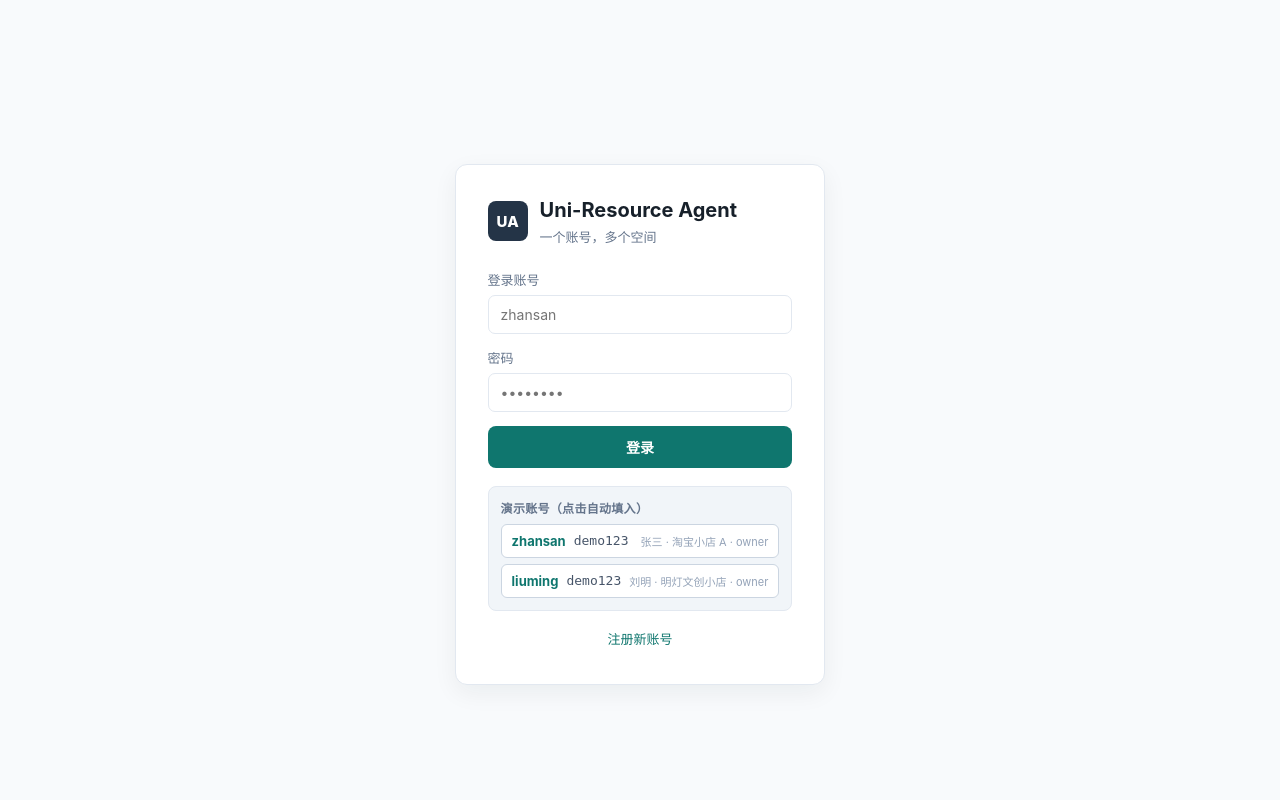
Test: organization switching › switches organization by posting only ouid and clamps illegal views
In the field with test id "login": [640, 314] box top-left (488, 294), bottom-right (792, 334), type "shopkeeper"
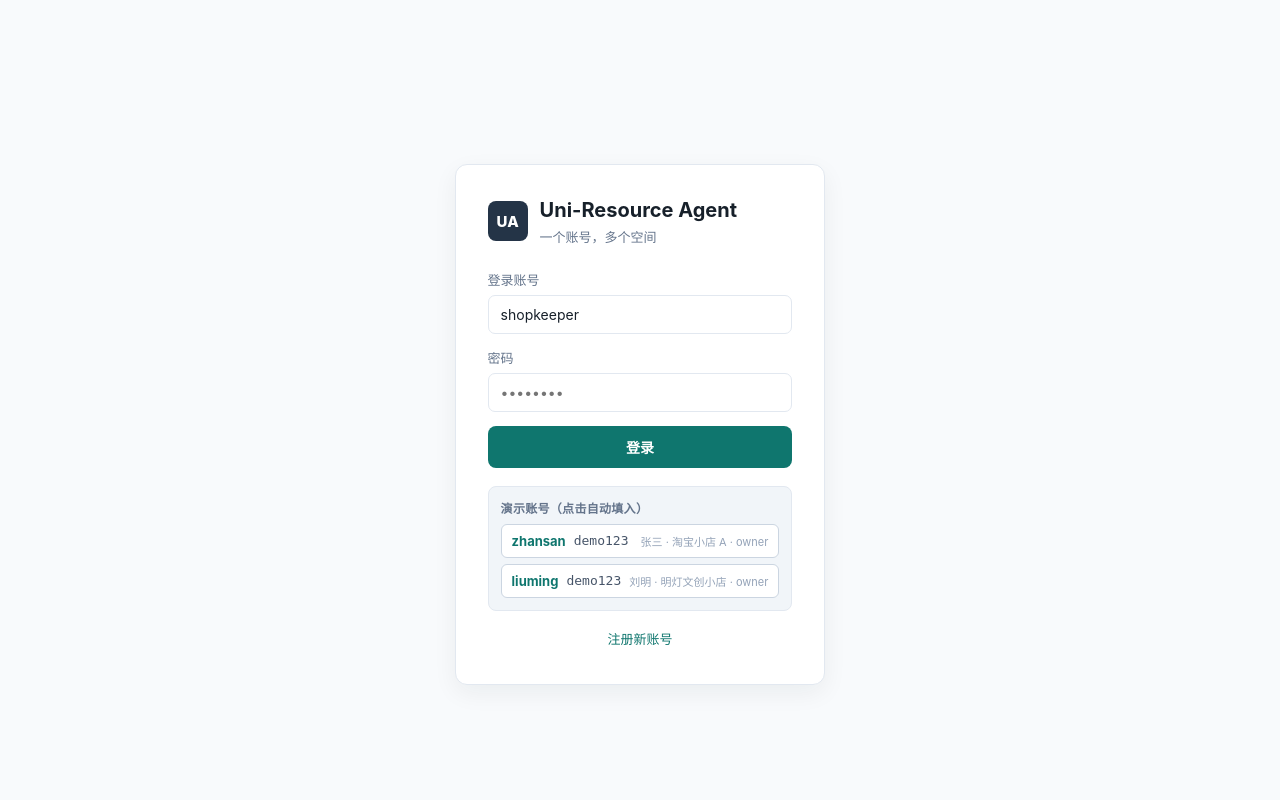
In the password field with test id "password": [640, 392] box top-left (488, 372), bottom-right (792, 412), type "pass123"
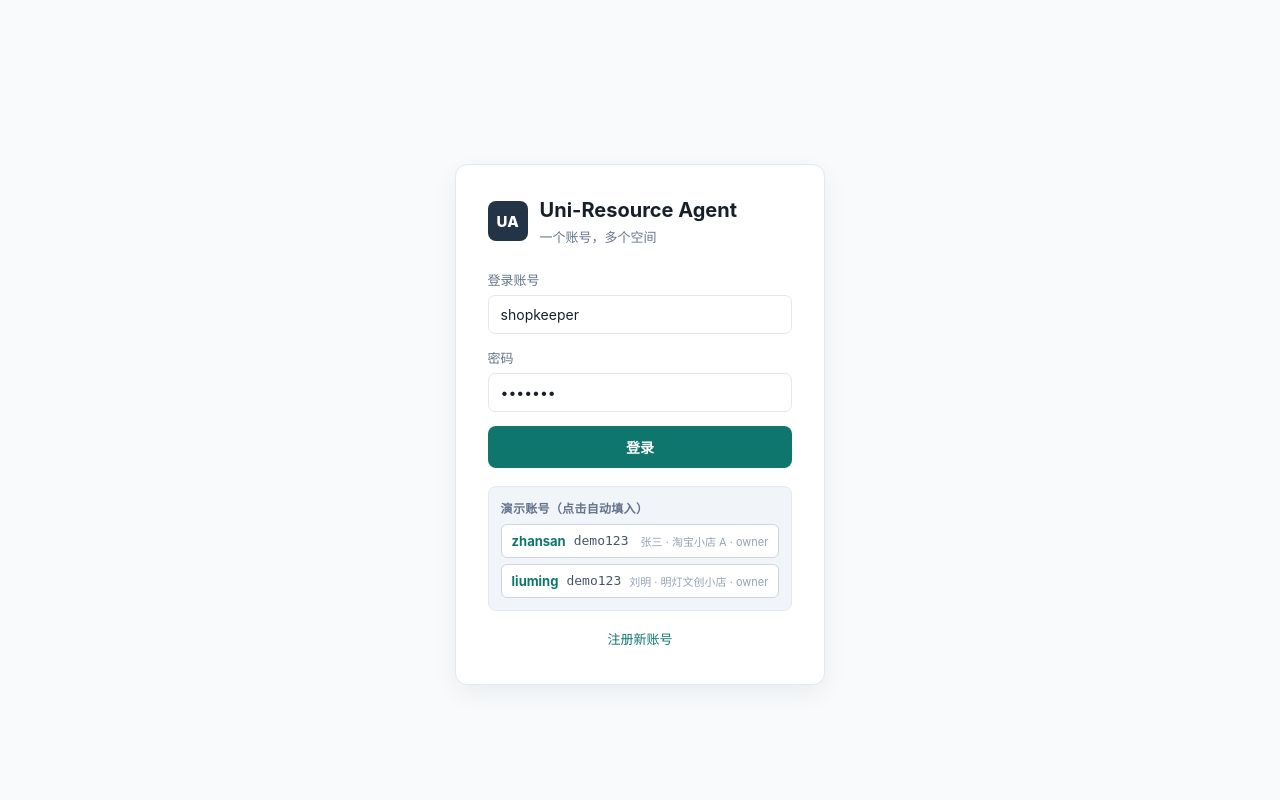
Submit the form, box top-left (488, 270), bottom-right (792, 468)
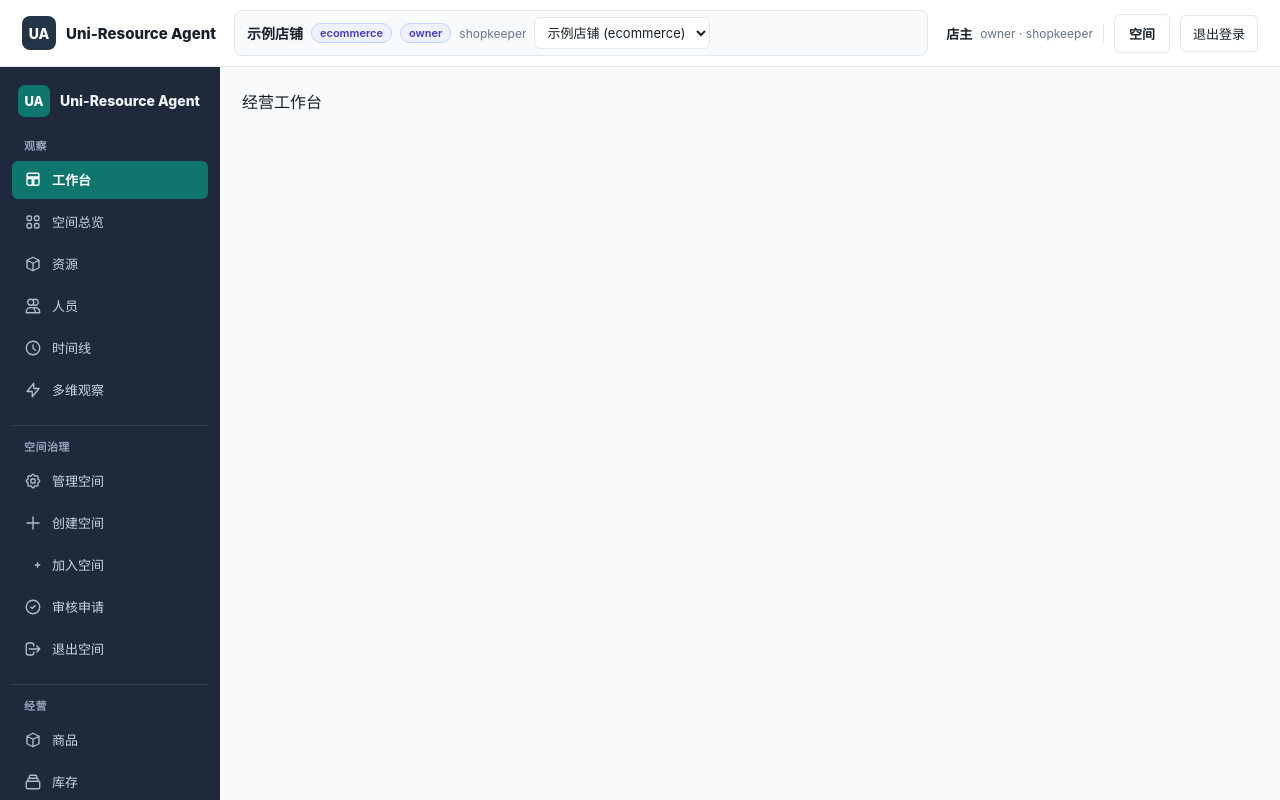
Click the button "库存": [110, 782] box top-left (12, 763), bottom-right (208, 799)
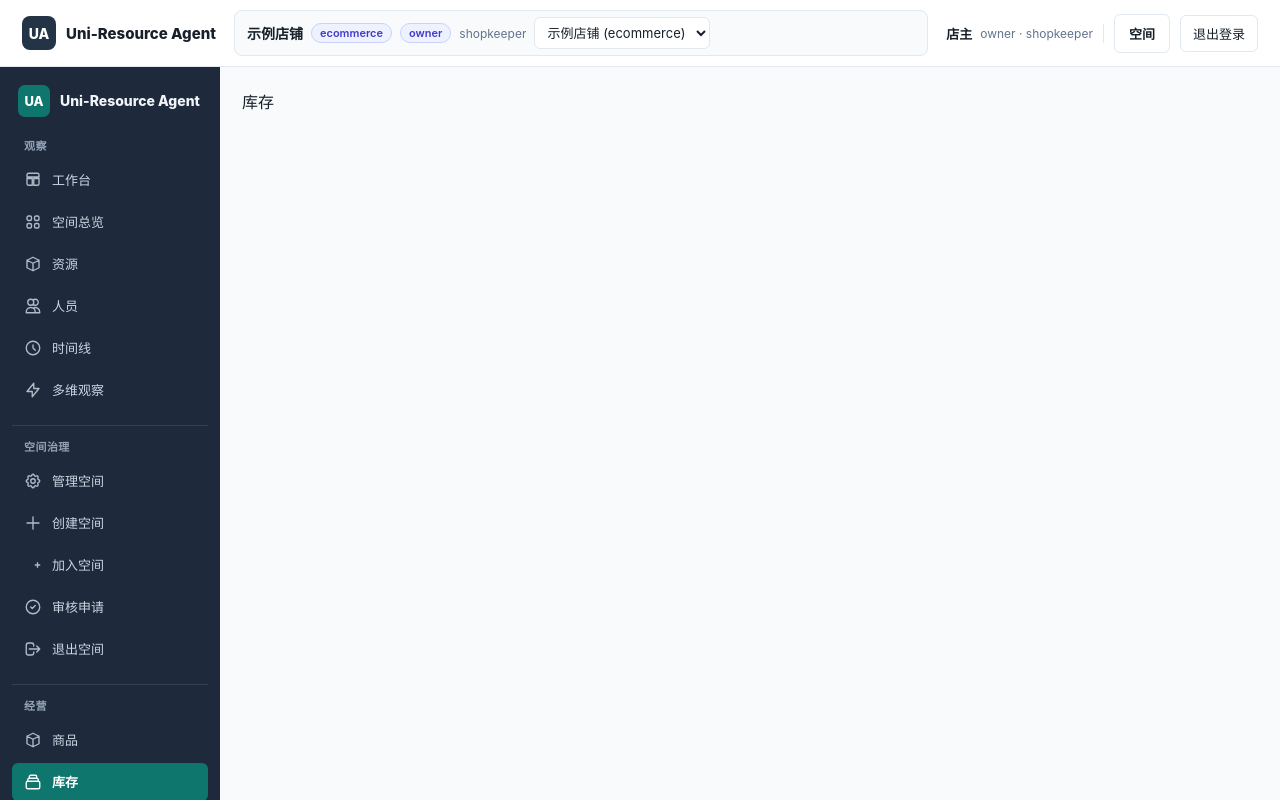
Select "我的家庭 (family)" in the dropdown with test id "org-switch": [622, 33] box top-left (534, 17), bottom-right (710, 49)
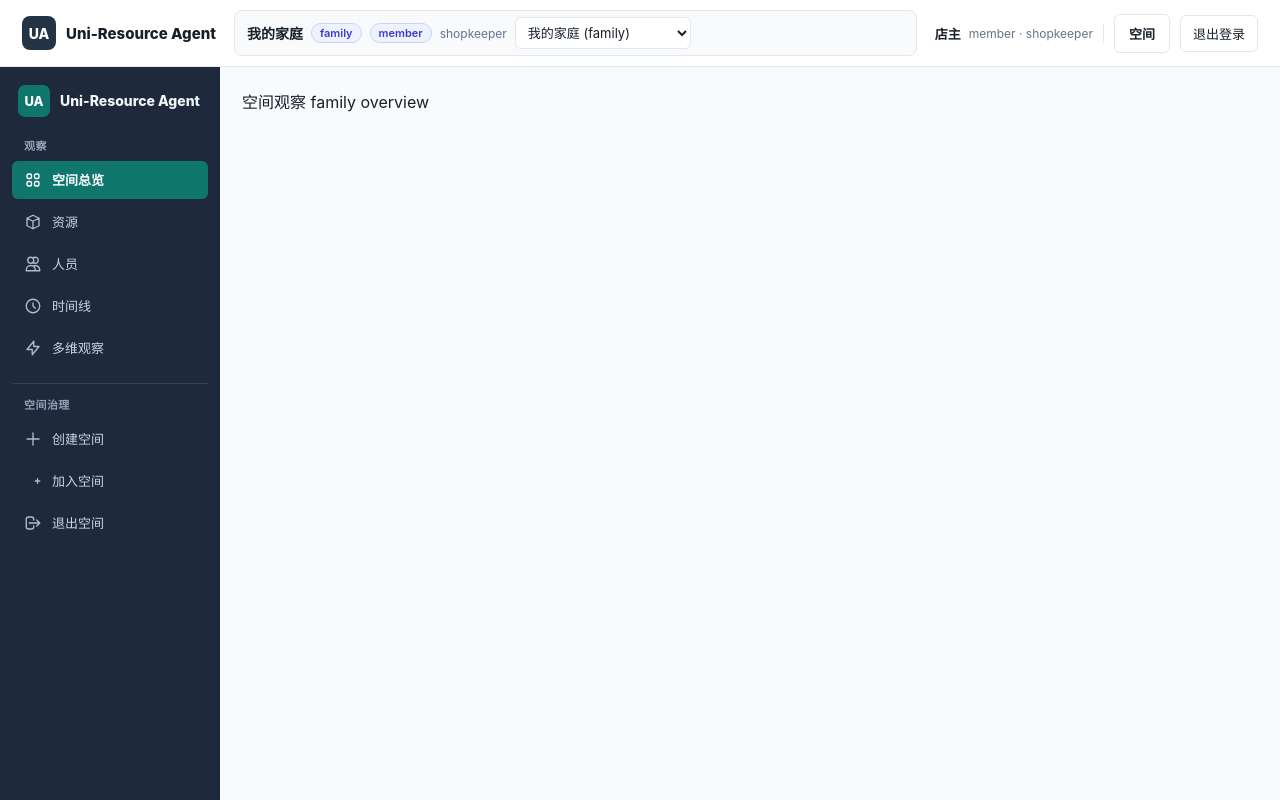
Result: the header with test id "app-header" shows "我的家庭" at top-left (247, 25), bottom-right (303, 42)
Result: the text "family" is shown at top-left (311, 23), bottom-right (362, 43)
